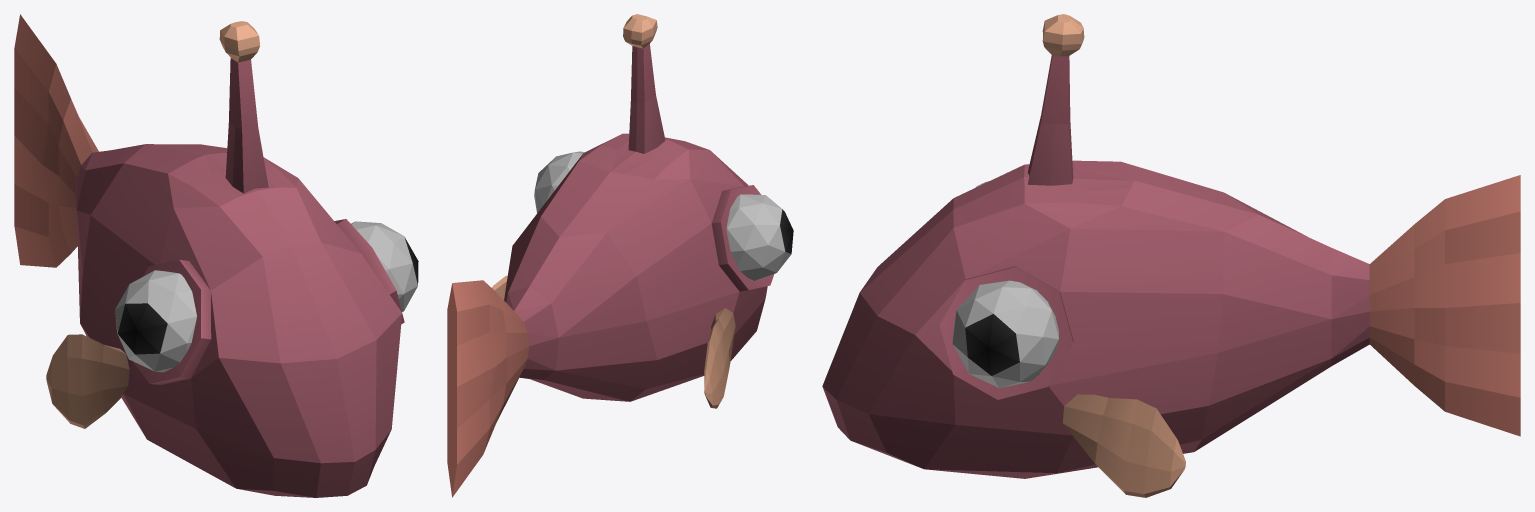
The model's file is radio_desk.glb.
The picture shows the model from 3 angles, left to right: view 1: azimuth 30°, elevation 25°; view 2: azimuth 150°, elevation 25°; view 3: azimuth 270°, elevation 25°; orthographic projection. The views are drawn at different scales.
Parts seen in each view (by area): view 1: radiofish_body, antena; view 2: radiofish_body, antena; view 3: radiofish_body, antena.
Boxes of the visible parts, bbox=[...] form: radiofish_body: bbox=[14, 14, 418, 497]; antena: bbox=[219, 21, 268, 193]; radiofish_body: bbox=[447, 133, 793, 497]; antena: bbox=[623, 14, 665, 153]; radiofish_body: bbox=[822, 160, 1520, 497]; antena: bbox=[1027, 14, 1084, 185].
Size of the model in its own units: 2.61 by 3.57 by 5.21.
Materials: 4 (4 with a texture image).
